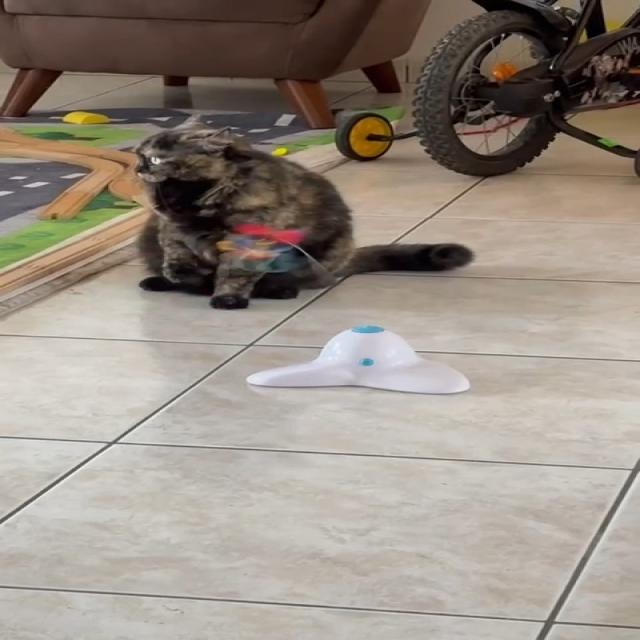authorized: (132, 113, 475, 310)
